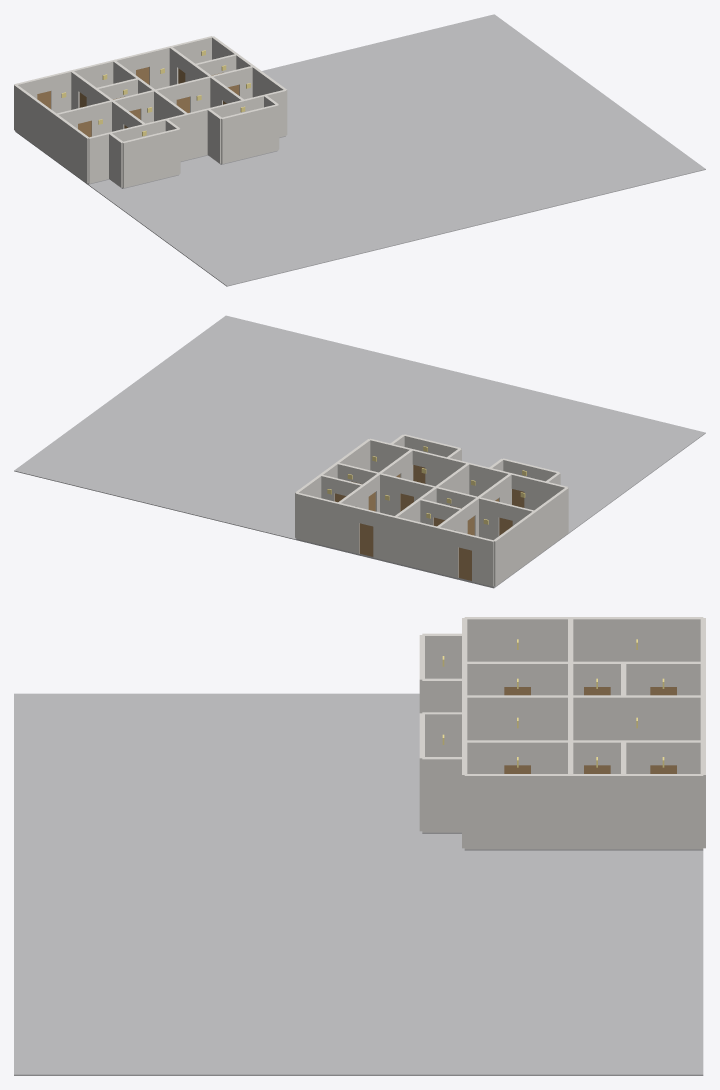
File: apartment.gltf
3 views of the same model, one above another, from view 1: azimuth 30°, elevation 25°; view 2: azimuth 150°, elevation 25°; view 3: azimuth 270°, elevation 25° (orthographic). The views are drawn at different scales.
Visible parts, largest first — view 1: SITE|GROUND|plane|0, WALL|F0|bal0|wS_seg0, WALL|F0|bal1|wS_seg0, WALL|F0|unit0_living|wW_seg0, WALL|F0|unit0_bed|wW_seg0, WALL|F0|unit0_bed|wS_seg0, WALL|F0|unit1_bed|wS_seg0, WALL|F0|unit0_living|wN_seg2, WALL|F0|unit1_living|wN_seg2, WALL|F0|unit0_hall|wS_seg0, WALL|F0|bal1|wW_seg0, WALL|F0|unit0_kitchen|wN_seg0 (+7 smaller); view 2: SITE|GROUND|plane|0, WALL|F0|unit0_living|wW_seg0, WALL|F0|unit0_kitchen|wN_seg0, WALL|F0|unit1_kitchen|wN_seg0, WALL|F0|unit0_bed|wW_seg0, WALL|F0|unit0_living|wN_seg2, WALL|F0|unit0_living|wN_seg0, WALL|F0|unit1_living|wN_seg0, WALL|F0|unit1_living|wN_seg2, WALL|F0|unit1_bed|wS_seg0, WALL|F0|unit0_bed|wS_seg0, WALL|F0|unit1_hall|wS_seg0 (+10 smaller); view 3: SITE|GROUND|plane|0, WALL|F0|unit1_hall|wE_seg0, WALL|F0|unit1_kitchen|wE_seg0, WALL|F0|unit0_living|wW_seg0, WALL|F0|unit0_hall|wE_seg0, WALL|F0|unit0_bed|wW_seg0, WALL|F0|unit1_bath|wE_seg0, WALL|F0|unit0_kitchen|wE_seg0, WALL|F0|unit1_living|wW_seg0, WALL|F0|bal1|wE_seg0, WALL|F0|unit0_bath|wE_seg0, WALL|F0|bal0|wW_seg0 (+10 smaller).
Boxes of the visible parts, left/top/right/bottom form: SITE|GROUND|plane|0: left=15, top=14, right=705, bottom=286; WALL|F0|bal0|wS_seg0: left=122, top=128, right=179, bottom=188; WALL|F0|bal1|wS_seg0: left=221, top=104, right=278, bottom=163; WALL|F0|unit0_living|wW_seg0: left=14, top=84, right=56, bottom=159; WALL|F0|unit0_bed|wW_seg0: left=54, top=114, right=89, bottom=183; WALL|F0|unit0_bed|wS_seg0: left=88, top=127, right=131, bottom=183; WALL|F0|unit1_bed|wS_seg0: left=187, top=103, right=230, bottom=159; WALL|F0|unit0_living|wN_seg2: left=50, top=70, right=71, bottom=113; WALL|F0|unit1_living|wN_seg2: left=149, top=46, right=170, bottom=89; WALL|F0|unit0_hall|wS_seg0: left=145, top=113, right=187, bottom=161; WALL|F0|bal1|wW_seg0: left=207, top=109, right=221, bottom=163; WALL|F0|unit0_kitchen|wN_seg0: left=71, top=60, right=114, bottom=87; SITE|GROUND|plane|0: left=14, top=315, right=705, bottom=588; WALL|F0|unit0_living|wW_seg0: left=493, top=511, right=536, bottom=586; WALL|F0|unit0_kitchen|wN_seg0: left=394, top=516, right=437, bottom=572; WALL|F0|unit1_kitchen|wN_seg0: left=295, top=492, right=338, bottom=548; WALL|F0|unit0_bed|wW_seg0: left=534, top=487, right=568, bottom=556; WALL|F0|unit0_living|wN_seg2: left=436, top=527, right=458, bottom=578; WALL|F0|unit0_living|wN_seg0: left=472, top=535, right=494, bottom=586; WALL|F0|unit1_living|wN_seg0: left=373, top=511, right=395, bottom=562; WALL|F0|unit1_living|wN_seg2: left=338, top=503, right=359, bottom=553; WALL|F0|unit1_bed|wS_seg0: left=425, top=453, right=468, bottom=486; WALL|F0|unit0_bed|wS_seg0: left=524, top=476, right=568, bottom=510; WALL|F0|unit1_hall|wS_seg0: left=369, top=438, right=412, bottom=472; SITE|GROUND|plane|0: left=14, top=693, right=703, bottom=1075; WALL|F0|unit1_hall|wE_seg0: left=464, top=774, right=570, bottom=849; WALL|F0|unit1_kitchen|wE_seg0: left=623, top=774, right=703, bottom=849; WALL|F0|unit0_living|wW_seg0: left=570, top=617, right=703, bottom=661; WALL|F0|unit0_hall|wE_seg0: left=464, top=695, right=570, bottom=740; WALL|F0|unit0_bed|wW_seg0: left=464, top=617, right=570, bottom=661; WALL|F0|unit1_bath|wE_seg0: left=570, top=774, right=623, bottom=849; WALL|F0|unit0_kitchen|wE_seg0: left=623, top=695, right=703, bottom=740; WALL|F0|unit1_living|wW_seg0: left=573, top=695, right=700, bottom=740; WALL|F0|bal1|wE_seg0: left=422, top=757, right=464, bottom=832; WALL|F0|unit0_bath|wE_seg0: left=570, top=695, right=623, bottom=740; WALL|F0|bal0|wW_seg0: left=422, top=633, right=462, bottom=678.
Size of the model in its own units: 34.1 by 3.2 by 26.1.
